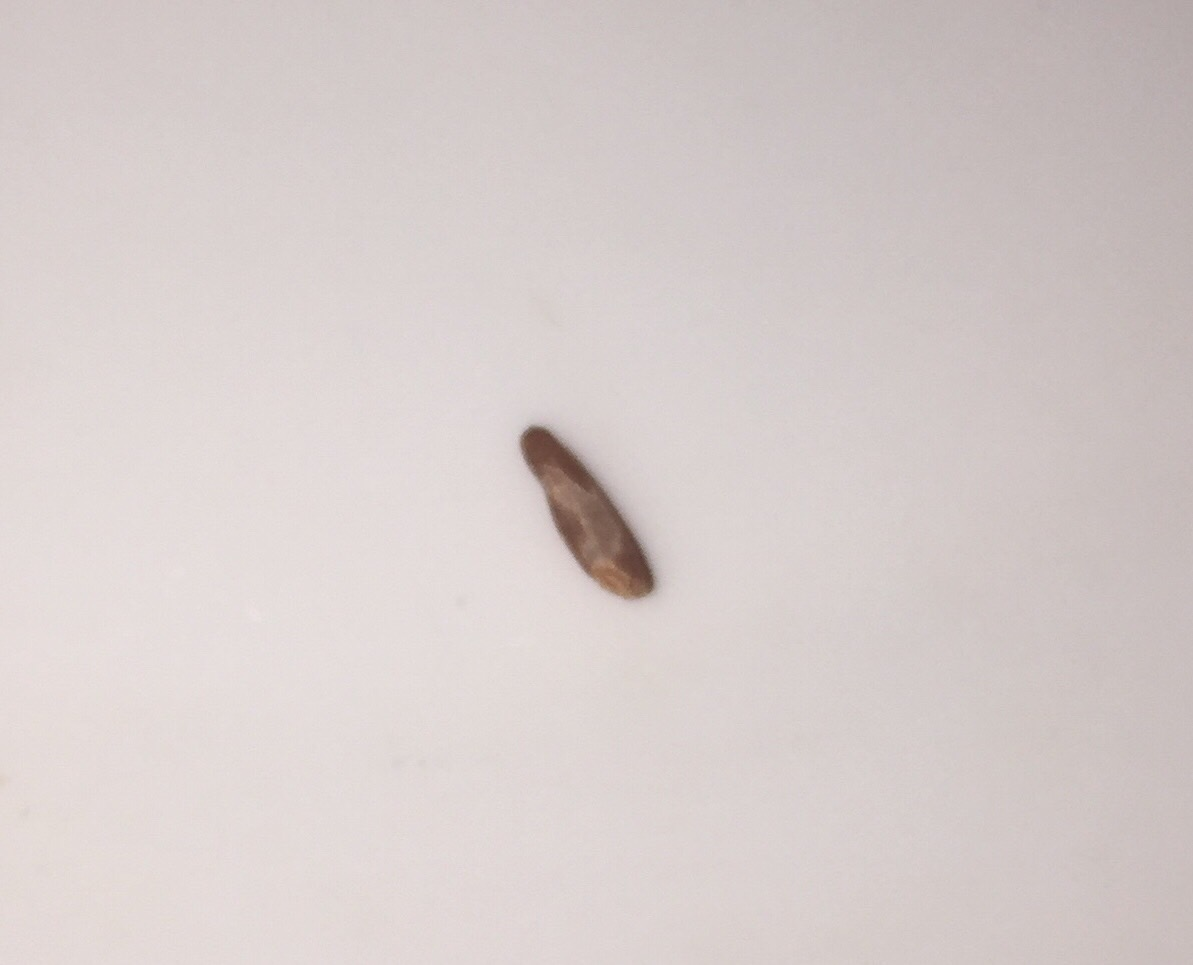Gao Huyet Rong: (502, 413, 663, 617)
